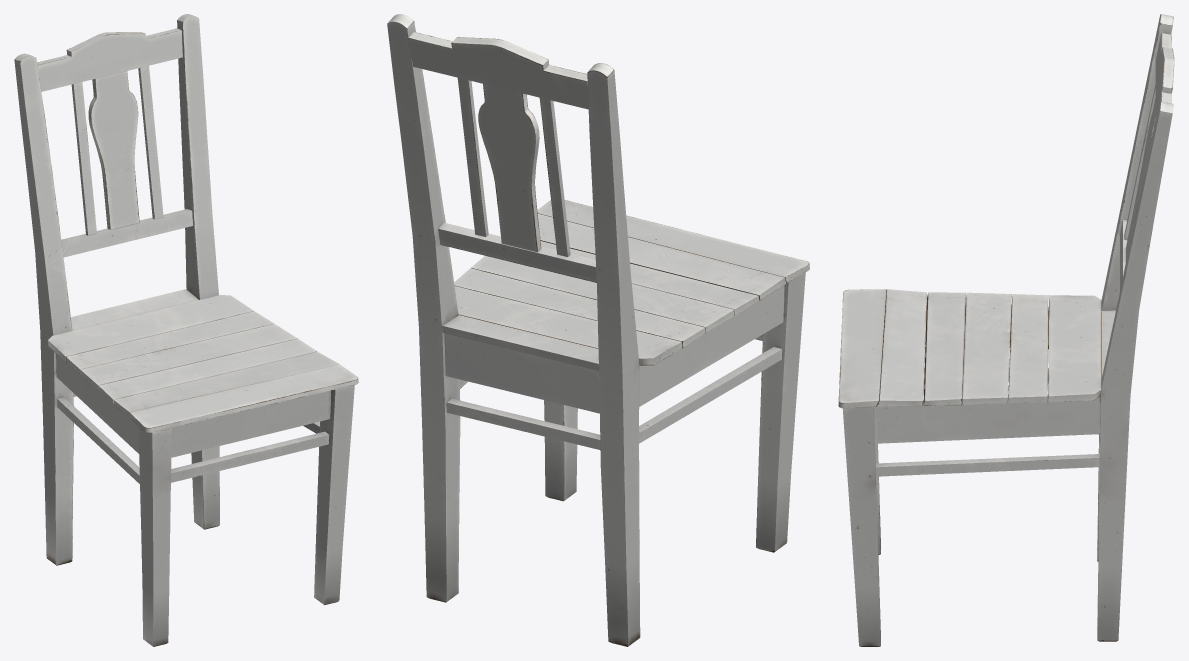
File: painted_wooden_chair_01.glb
3 views of the same model, side by side, from view 1: azimuth 30°, elevation 25°; view 2: azimuth 150°, elevation 25°; view 3: azimuth 270°, elevation 25° (orthographic). The views are drawn at different scales.
Parts seen in each view (by area): view 1: painted_wooden_chair_01; view 2: painted_wooden_chair_01; view 3: painted_wooden_chair_01.
Part boxes in pixels (bbox=[...]): painted_wooden_chair_01: bbox=[14, 14, 358, 646]; painted_wooden_chair_01: bbox=[387, 14, 809, 646]; painted_wooden_chair_01: bbox=[838, 14, 1174, 646].
Bounding box in the file's own units: 0.4318 × 0.9565 × 0.5398.
Materials: 1 (1 with a texture image).
